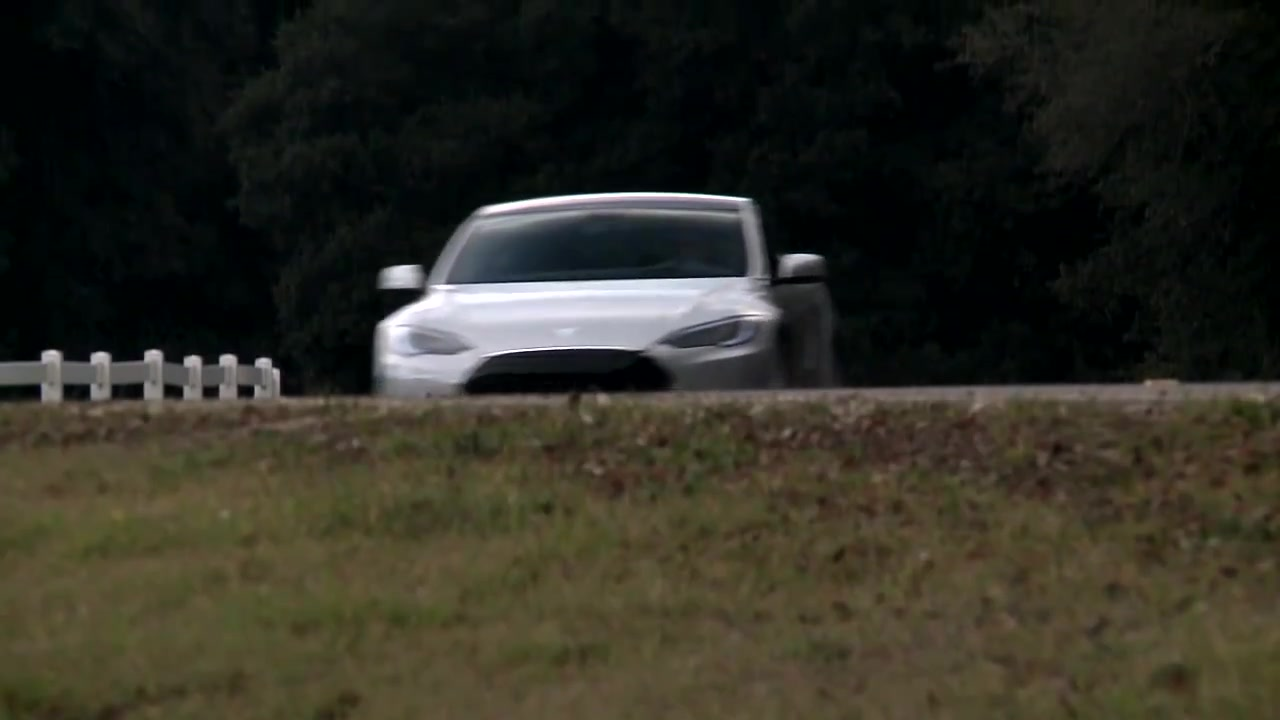car: (369, 187, 839, 389)
